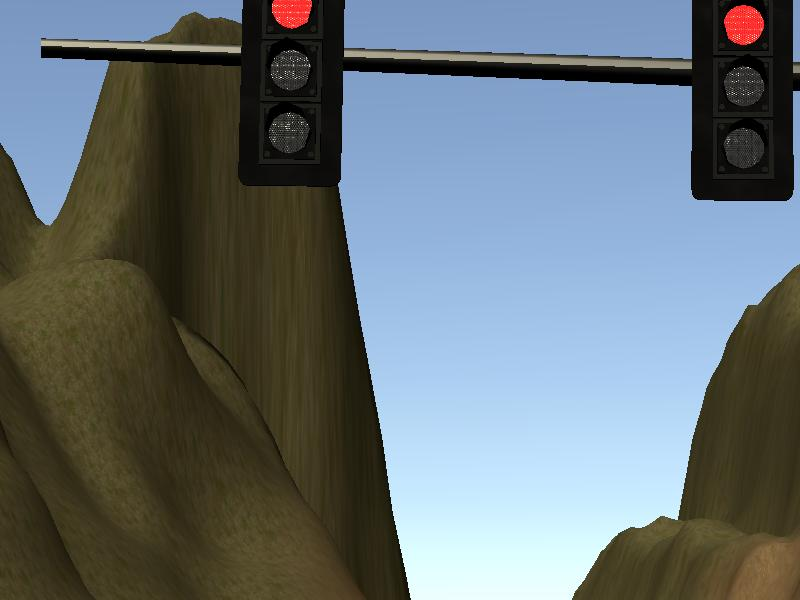red: (694, 1, 794, 200), (240, 1, 340, 188)
